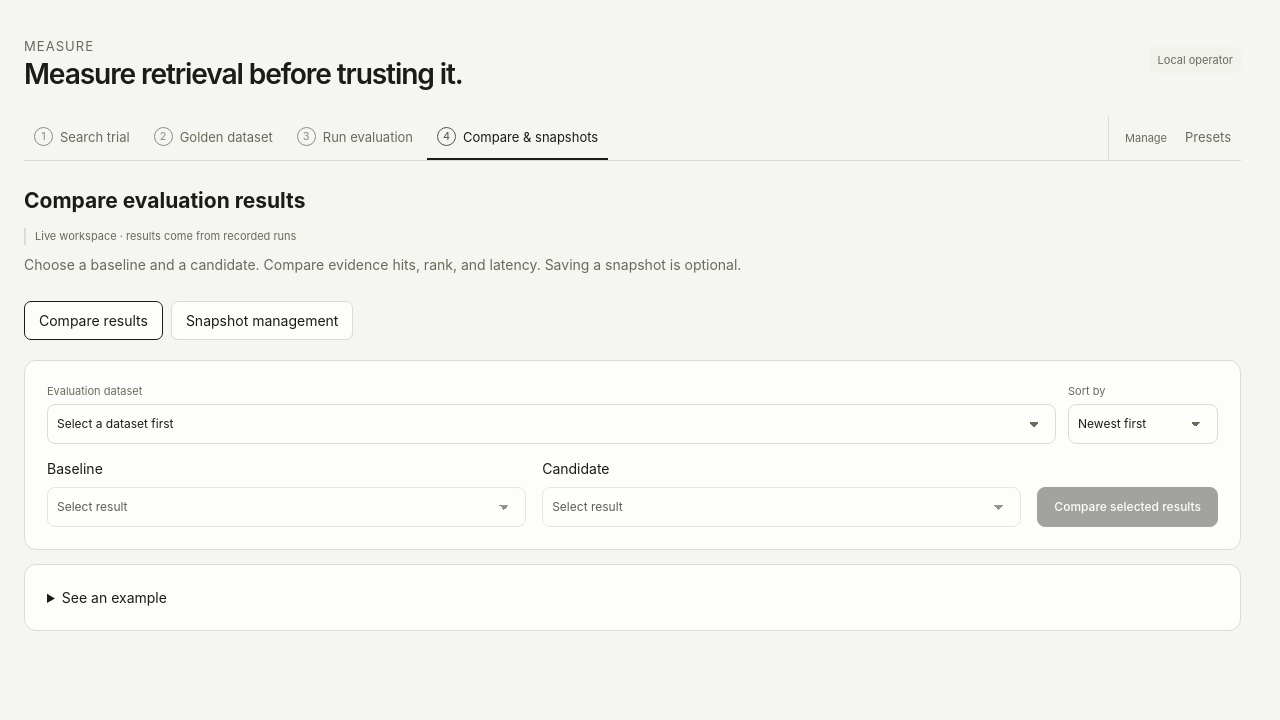
Test: filters comparisons by dataset and clears both selections when the file changes
The image size is (1280, 720).
Expected: the dropdown labelled "Baseline" is disabled, [47,487,526,527]
Select "DART · English questions · dart_retrieval.json (Built-in)" in the dropdown labelled "Evaluation dataset": (552, 424) [47,404,1056,444]
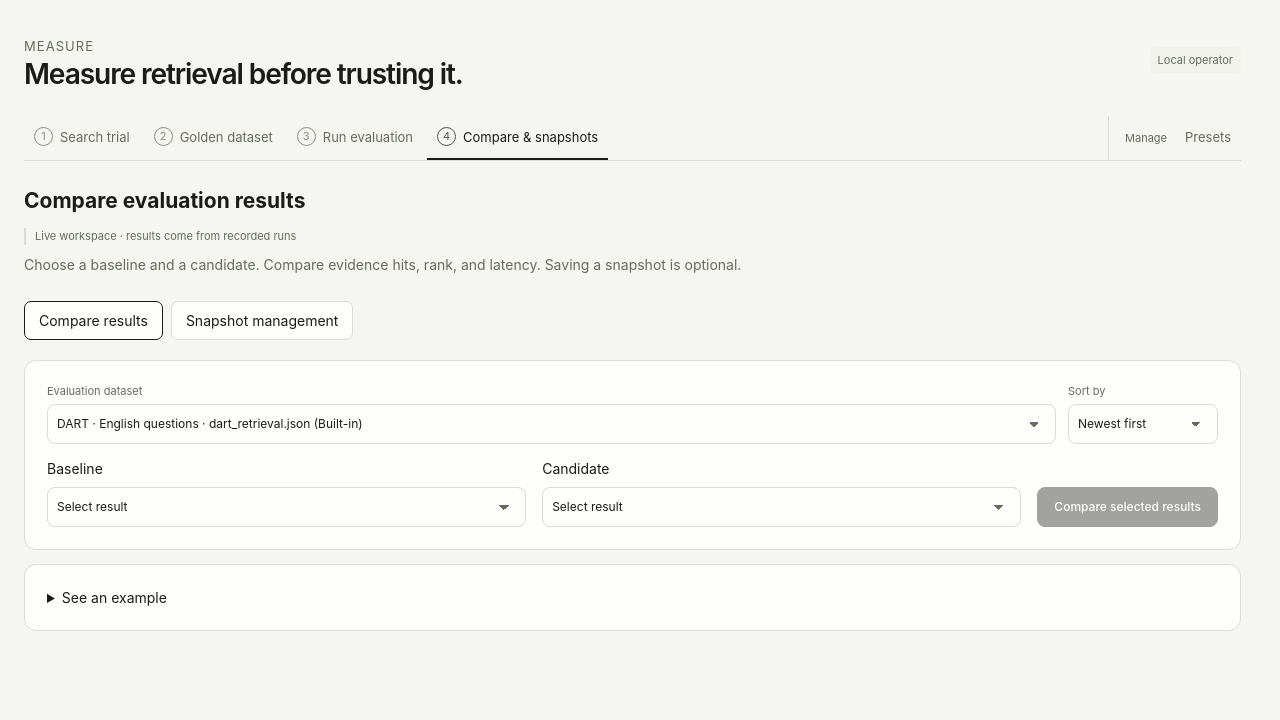
Select "hybrid · ts_rank_cd · k 5 · 9/8/2026, 12:00:11 PM" in the dropdown labelled "Baseline": (287, 507) [47,487,526,527]
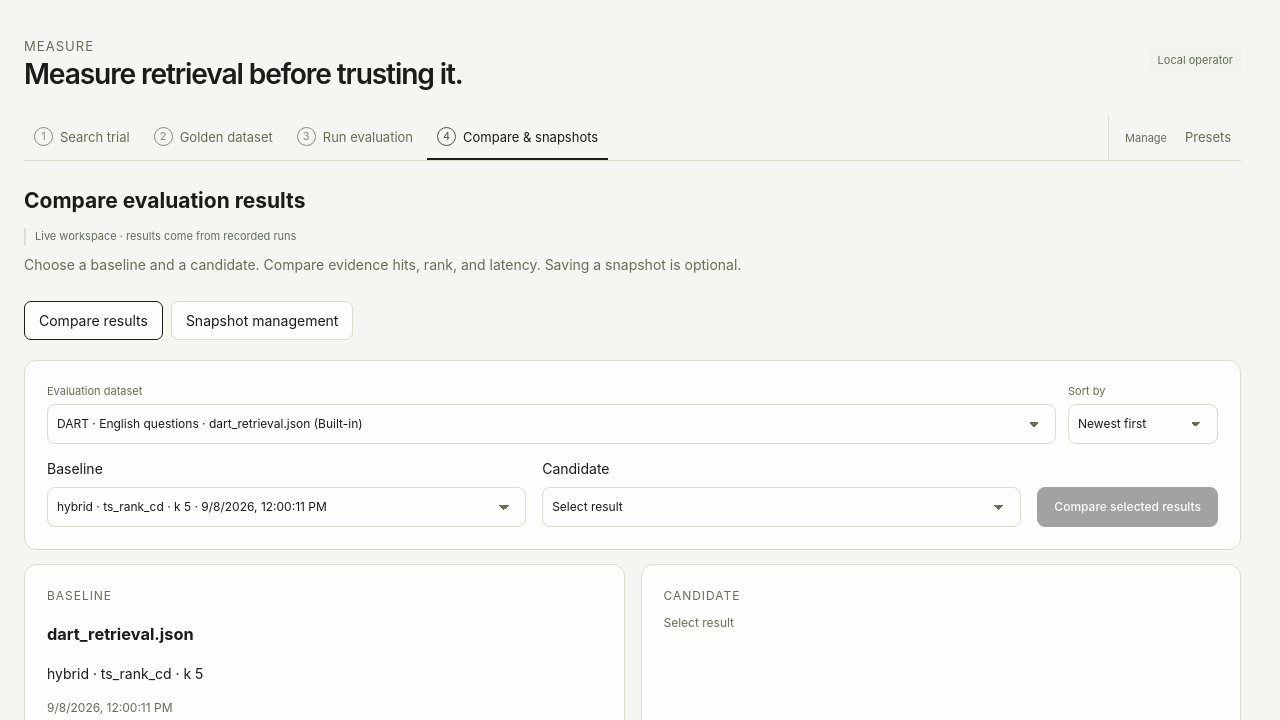
Select "hybrid · ts_rank_cd · k 5 · 9/8/2026, 12:00:12 PM" in the dropdown labelled "Candidate": (782, 507) [542,487,1021,527]
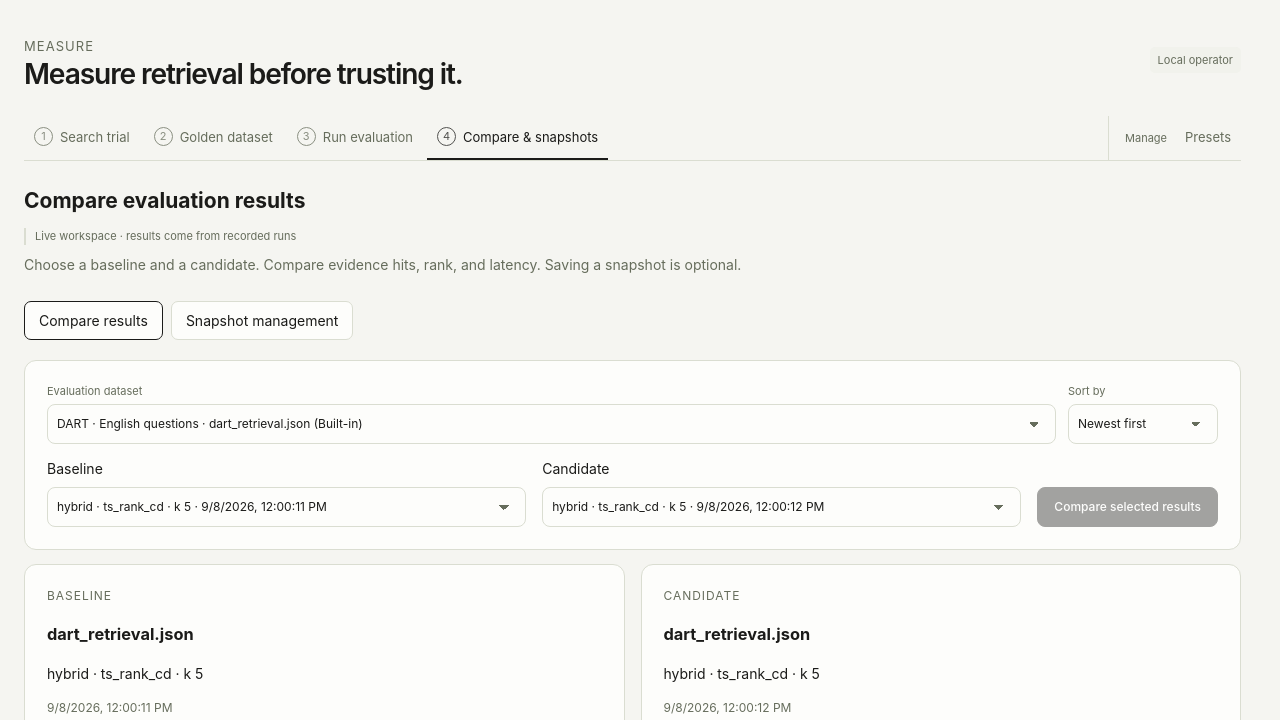
Expected: the button "Compare selected results" is disabled, [1037,487,1218,527]
Select "DART · Korean · dart_retrieval_ko.json (Built-in)" in the dropdown labelled "Evaluation dataset": (552, 424) [47,404,1056,444]
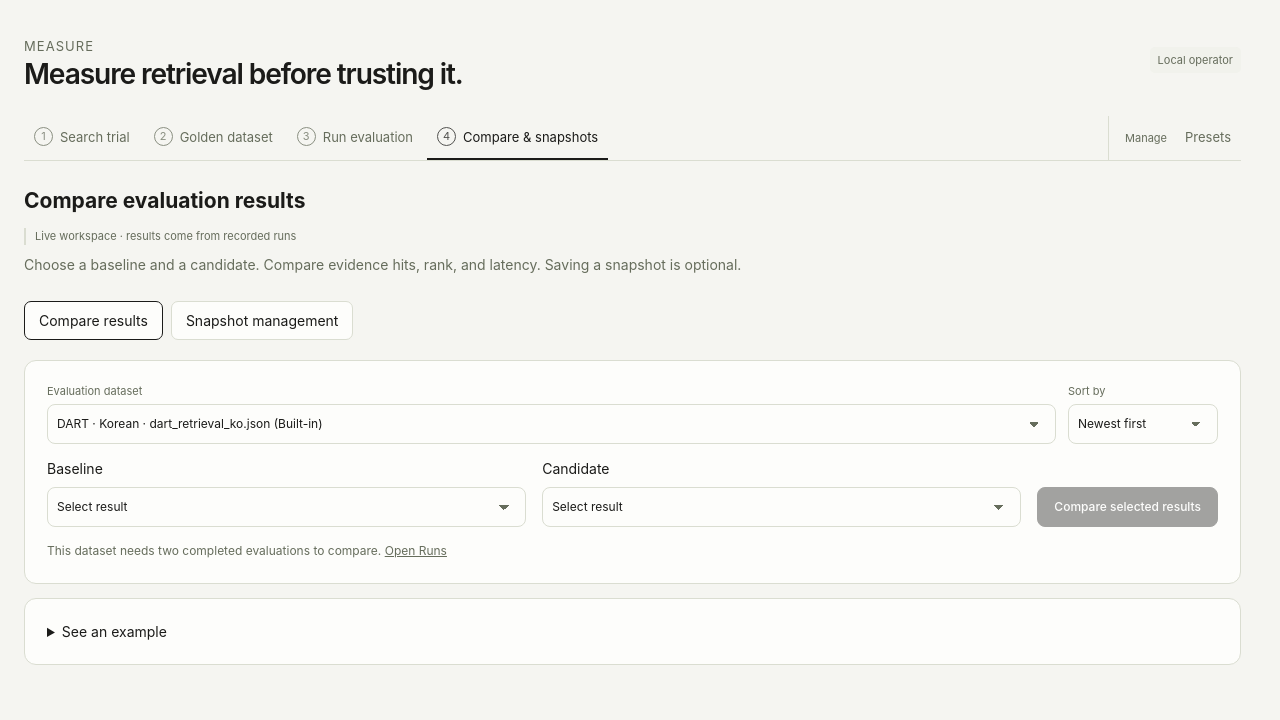
Expected: the text "This dataset needs two completed evaluations to compare." is shown, [47,543,381,558]
